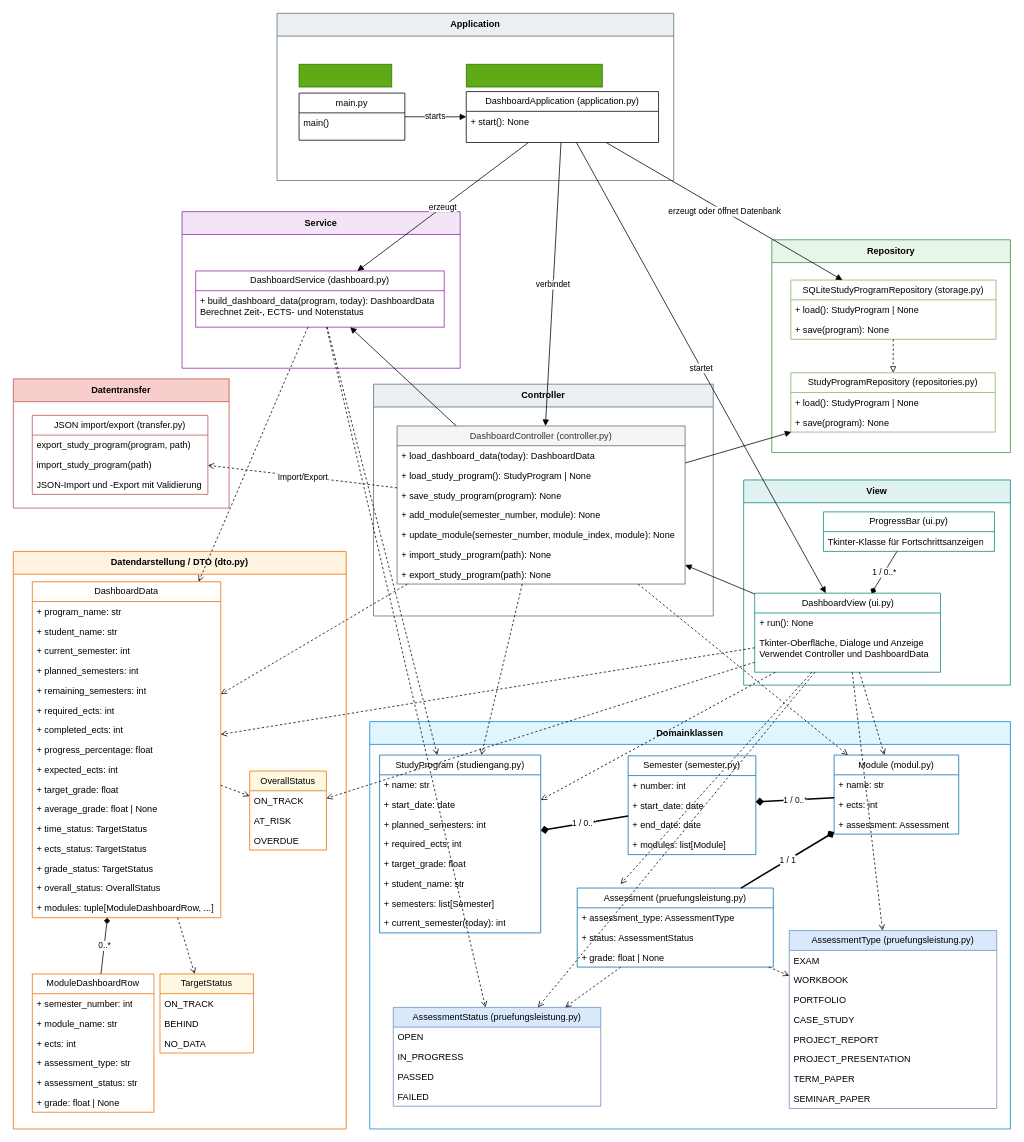
Image size: 1024x1142. Some labels were removed from this diagram. The shapes that lost their labels are listed below. From the top down, each one's centre as x and y in pixels, then its label:
At point 345,75: "Programmeinstieg".
At point 534,75: "Erzeugt und verdrahtet die Komponenten".
